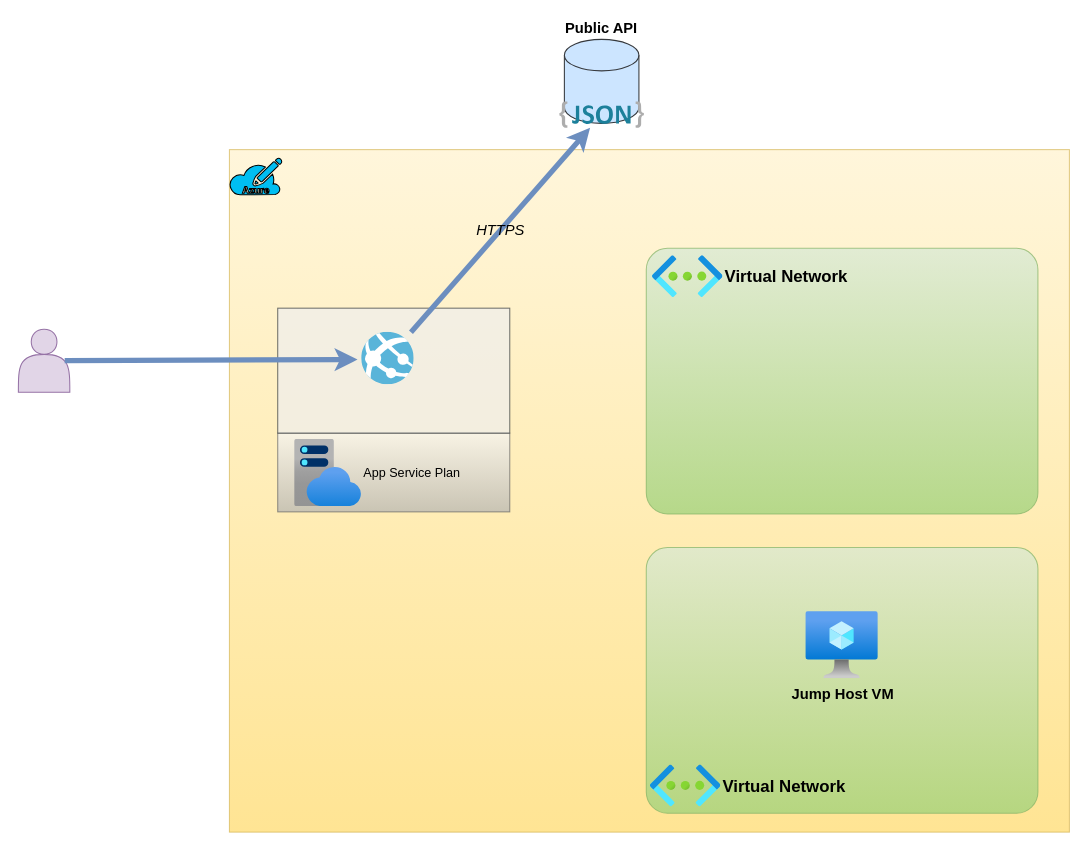
Image size: 1088x850. Some labels were removed from this diagram. Here are the shapes that lost their labels. From the top down, the centre of each, then its label:
(255,176): Azure Subscription
(387,358): Web API
